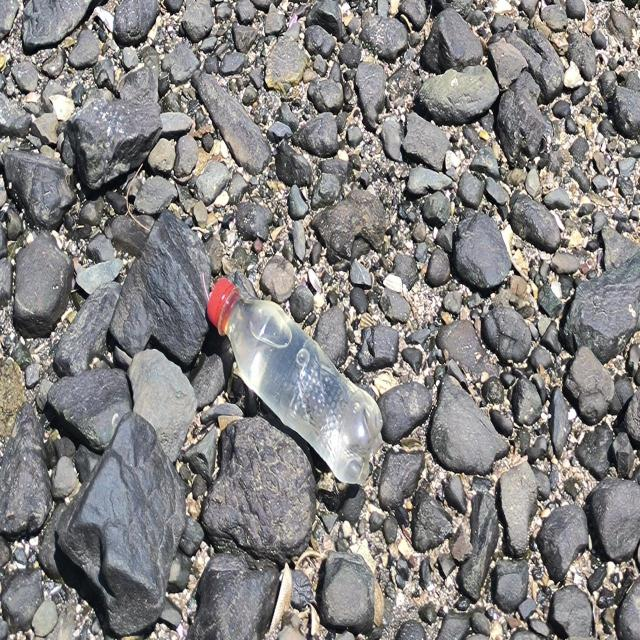plastic_waste: (207, 277, 387, 490)
